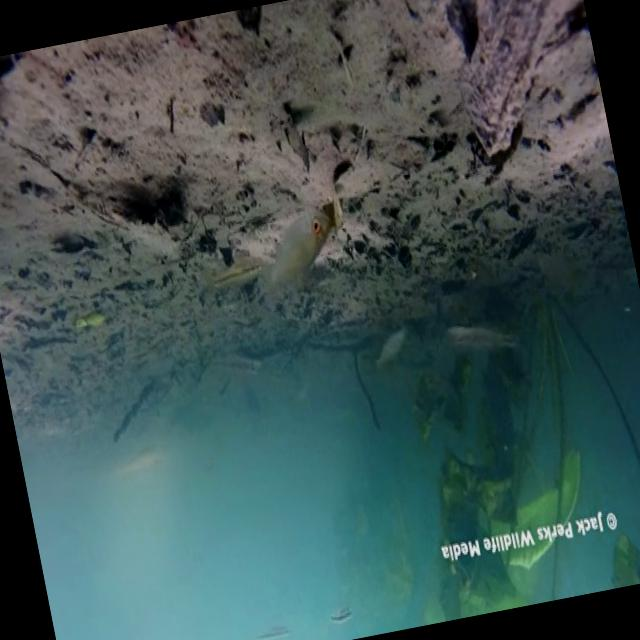Cakil Baligi: (242, 198, 348, 314)
